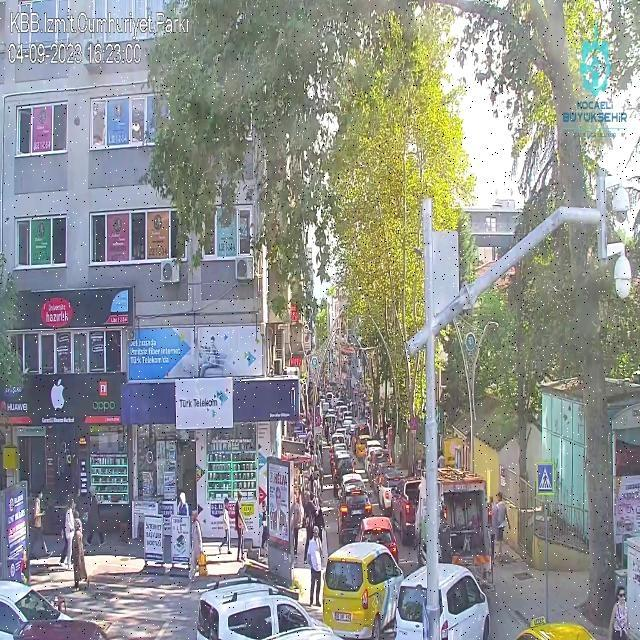Car: (199, 579, 333, 640), (393, 561, 489, 640), (0, 577, 80, 640), (339, 491, 379, 544), (354, 515, 400, 561), (14, 618, 110, 640), (377, 472, 407, 510), (335, 473, 368, 493)
Truck: (414, 468, 496, 584), (393, 476, 427, 546)
Van: (322, 543, 409, 640)
